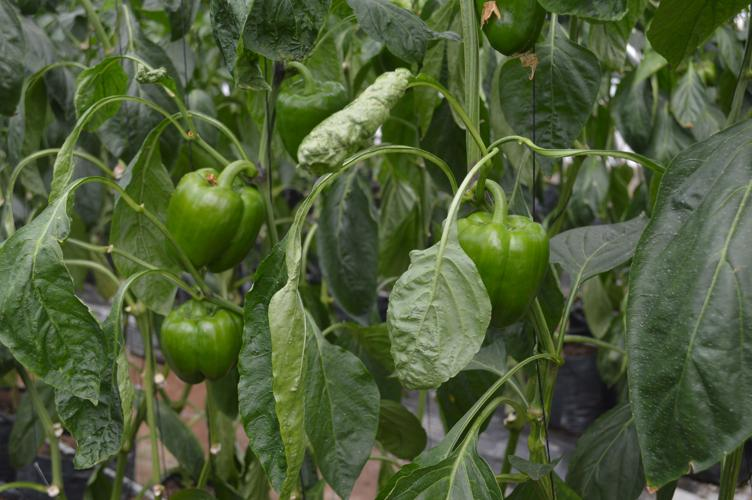BellPepper: (452, 213, 547, 322), (171, 166, 263, 269), (162, 305, 238, 385), (280, 80, 346, 157), (481, 4, 545, 51)
